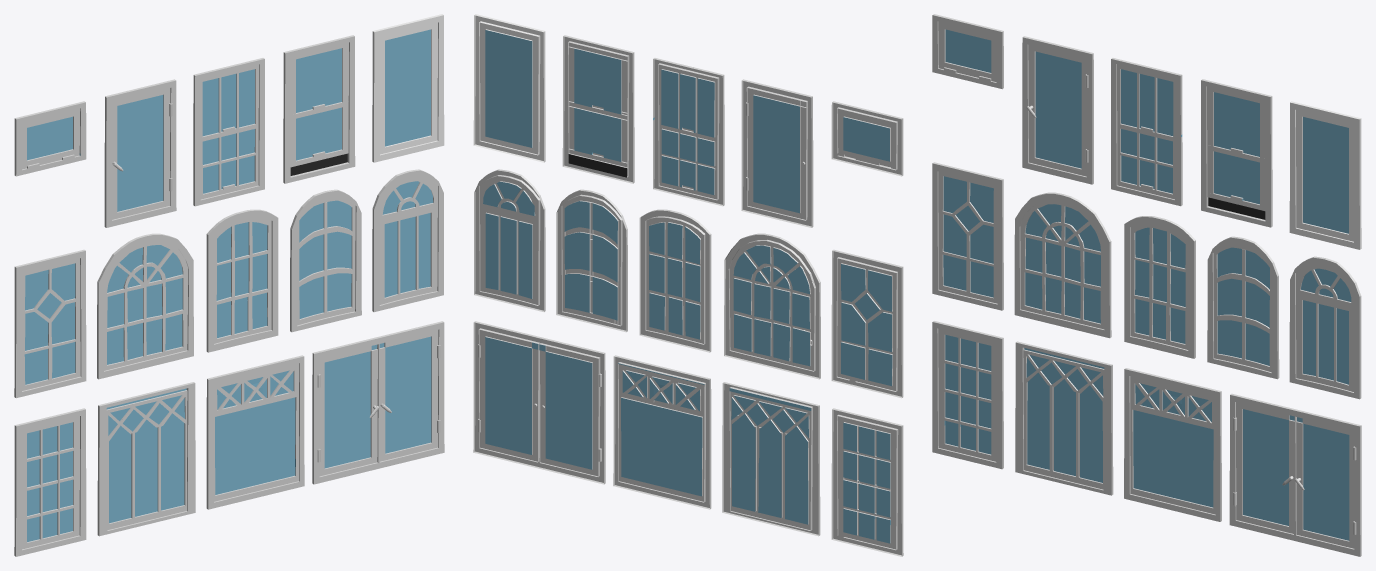
Rendered from Windows.fbx.
3 views of the same model, side by side, from view 1: azimuth 30°, elevation 25°; view 2: azimuth 150°, elevation 25°; view 3: azimuth 330°, elevation 25° (orthographic).
Parts seen in each view (by area): view 1: Object_20, Object_21, Object_16, Object_22, Object_19, Object_18, Object_15, Object_10, Object_5, Object_3, Object_7, Object_9 (+9 smaller); view 2: Object_20, Object_21, Object_16, Object_19, Object_22, Object_18, Object_10, Object_15, Object_5, Object_7, Object_9, Object_13 (+9 smaller); view 3: Object_20, Object_21, Object_16, Object_22, Object_18, Object_19, Object_15, Object_10, Object_5, Object_3, Object_9, Object_7 (+9 smaller).
Part boxes in pixels (bbox=[...]): Object_20: bbox=[14, 169, 443, 536]; Object_21: bbox=[14, 35, 355, 556]; Object_16: bbox=[324, 336, 431, 468]; Object_22: bbox=[112, 103, 444, 484]; Object_19: bbox=[106, 388, 186, 523]; Object_18: bbox=[215, 370, 295, 494]; Object_15: bbox=[97, 233, 193, 379]; Object_10: bbox=[107, 245, 182, 364]; Object_5: bbox=[202, 69, 254, 193]; Object_3: bbox=[117, 95, 163, 211]; Object_7: bbox=[385, 29, 430, 146]; Object_9: bbox=[24, 263, 75, 384]; Object_20: bbox=[474, 169, 903, 536]; Object_21: bbox=[562, 35, 903, 556]; Object_16: bbox=[485, 337, 592, 469]; Object_19: bbox=[729, 388, 811, 524]; Object_22: bbox=[473, 102, 805, 484]; Object_18: bbox=[618, 363, 704, 496]; Object_10: bbox=[733, 245, 810, 366]; Object_15: bbox=[724, 233, 820, 379]; Object_5: bbox=[653, 69, 714, 194]; Object_7: bbox=[485, 30, 532, 147]; Object_9: bbox=[841, 264, 892, 386]; Object_13: bbox=[564, 201, 617, 320]; Object_20: bbox=[932, 162, 1361, 521]; Object_21: bbox=[932, 14, 1272, 469]; Object_16: bbox=[1243, 409, 1349, 540]; Object_22: bbox=[1026, 74, 1361, 556]; Object_18: bbox=[1133, 383, 1213, 507]; Object_19: bbox=[1024, 348, 1104, 482]; Object_15: bbox=[1014, 192, 1111, 338]; Object_10: bbox=[1025, 204, 1100, 323]; Object_5: bbox=[1121, 69, 1182, 193]; Object_3: bbox=[1035, 51, 1081, 168]; Object_9: bbox=[943, 176, 993, 297]; Object_7: bbox=[1303, 117, 1348, 233].
Size of the model in its own units: 474 by 464 by 7.32.
